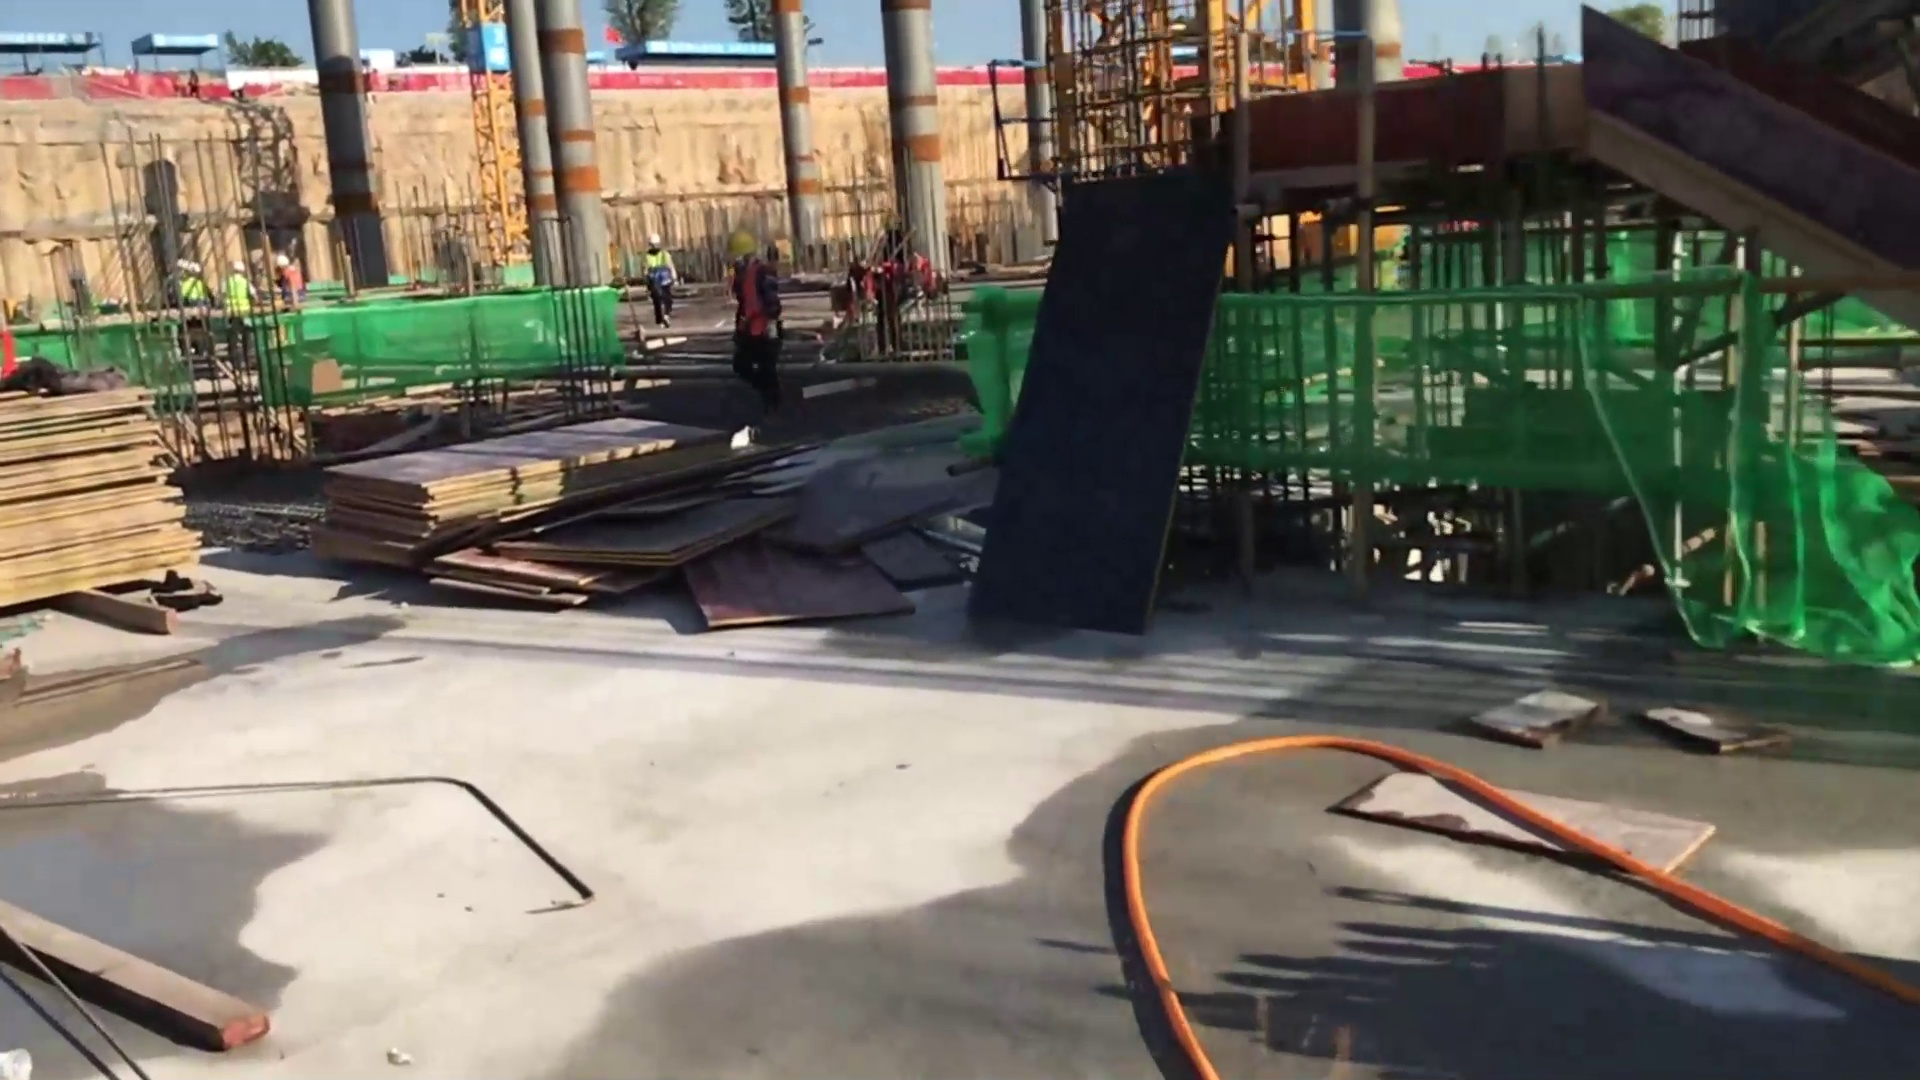person: (716, 231, 786, 385), (647, 230, 674, 326), (274, 255, 306, 312), (222, 261, 254, 317), (180, 260, 211, 309)
